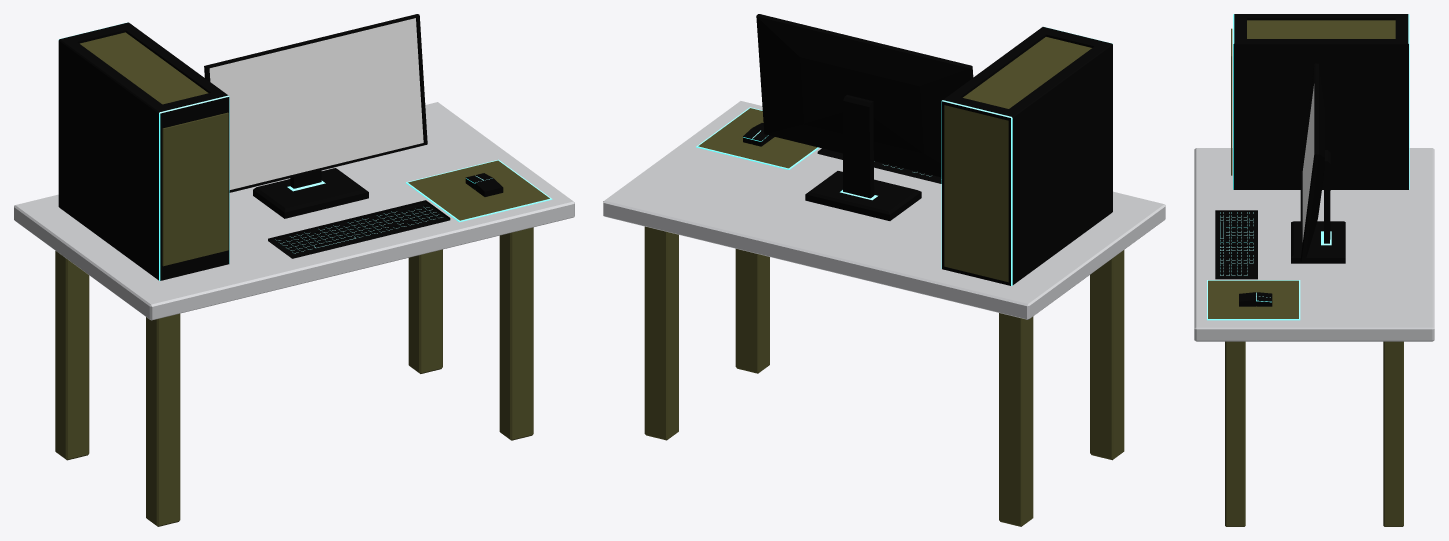
The picture shows the model from 3 angles, left to right: view 1: azimuth 30°, elevation 25°; view 2: azimuth 150°, elevation 25°; view 3: azimuth 270°, elevation 25°; orthographic projection. The views are drawn at different scales.
Visible parts, largest first — view 1: table, cpu, monitor, Plane, keyboard; view 2: table, cpu, monitor, Plane, keyboard; view 3: table, cpu, monitor, Plane, keyboard, mouse.
Part boxes in pixels (x1,y1,x2,y2): table: [14, 102, 574, 526]; cpu: [58, 22, 229, 280]; monitor: [204, 14, 427, 218]; Plane: [406, 159, 552, 222]; keyboard: [268, 200, 450, 258]; table: [603, 101, 1165, 526]; cpu: [941, 26, 1112, 285]; monitor: [756, 14, 973, 220]; Plane: [696, 107, 819, 169]; keyboard: [817, 148, 941, 183]; table: [1194, 148, 1434, 526]; cpu: [1231, 14, 1409, 189]; monitor: [1291, 63, 1345, 263]; Plane: [1207, 280, 1300, 320]; keyboard: [1215, 210, 1257, 279]; mouse: [1239, 292, 1272, 306].
Size of the model in its own units: 528 by 486 by 297.
